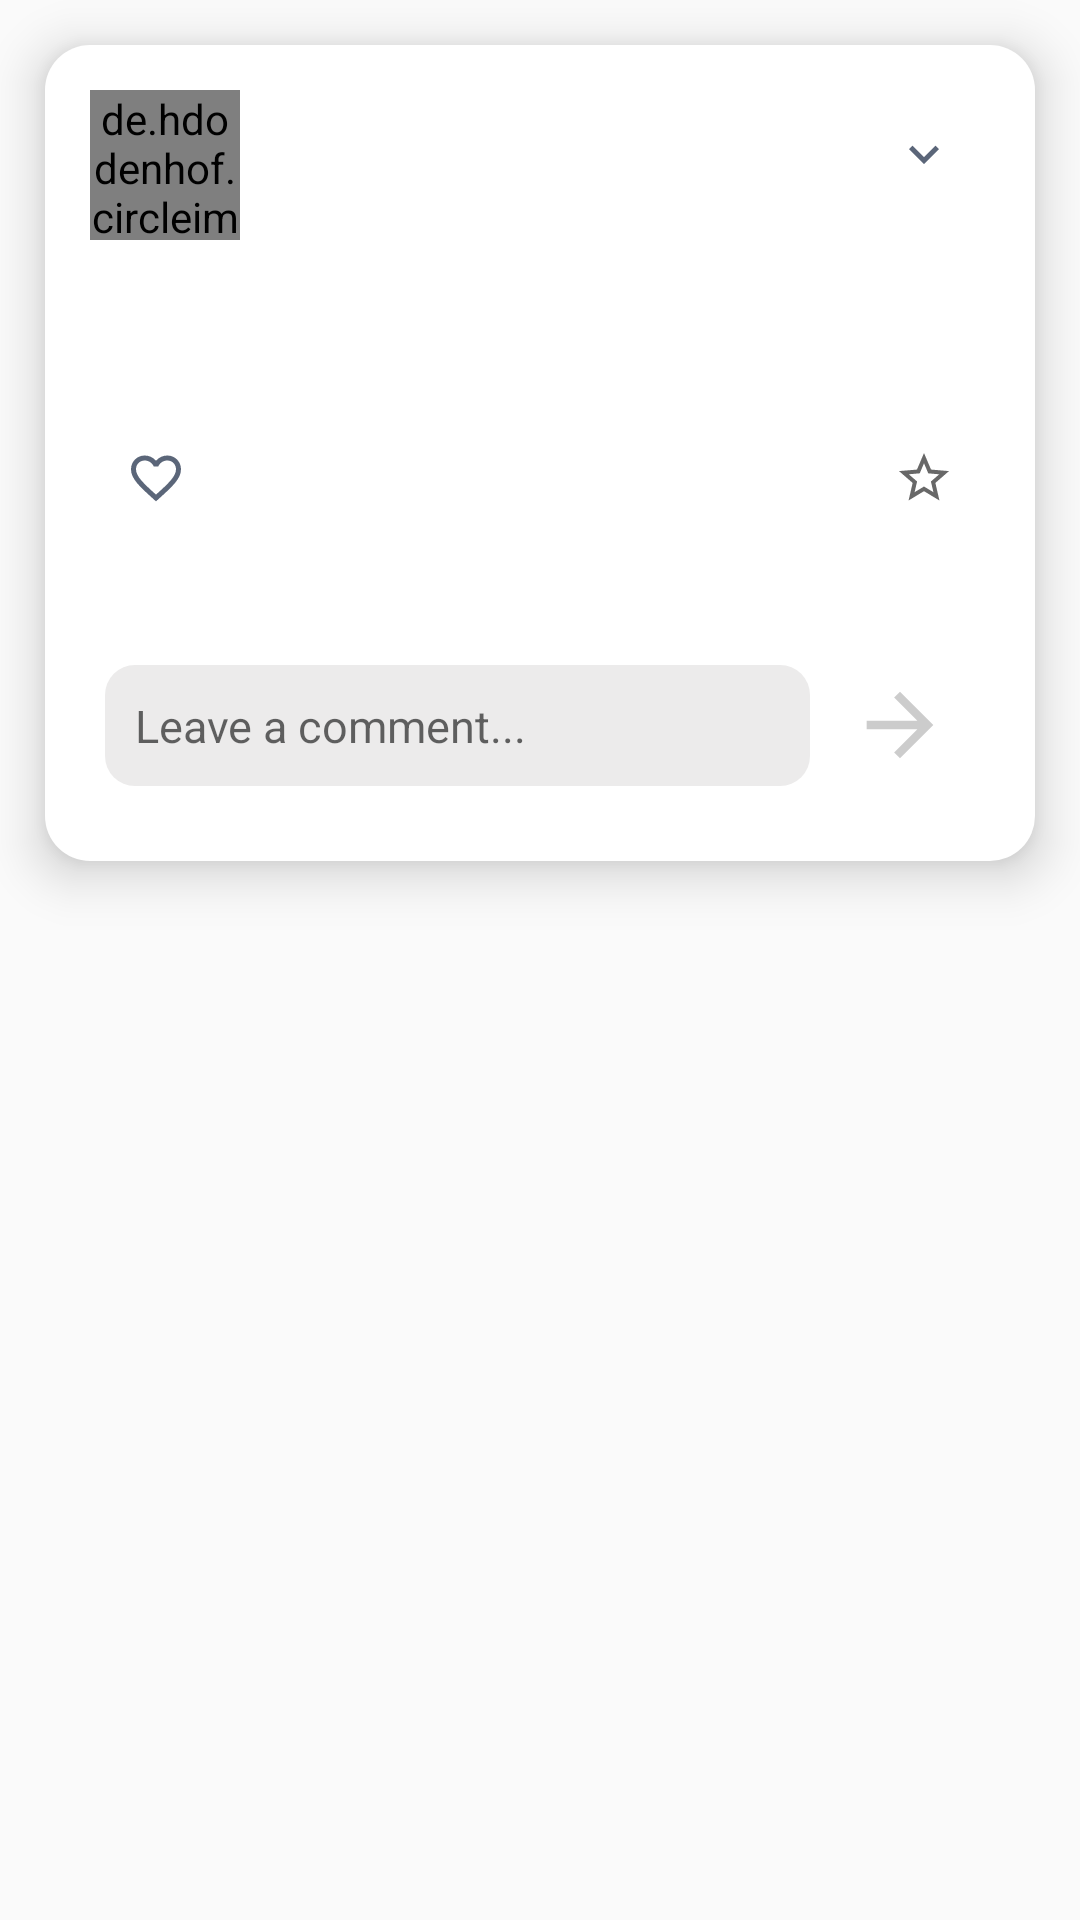

Icons on this 1080 x 1920 Android screen, each with its box as region(x1, y1, x2, y2):
arrow forward: region(867, 692, 933, 758)
postsetting: region(909, 146, 939, 164)
unliked: region(131, 455, 181, 501)
unsaved: region(899, 453, 949, 500)
